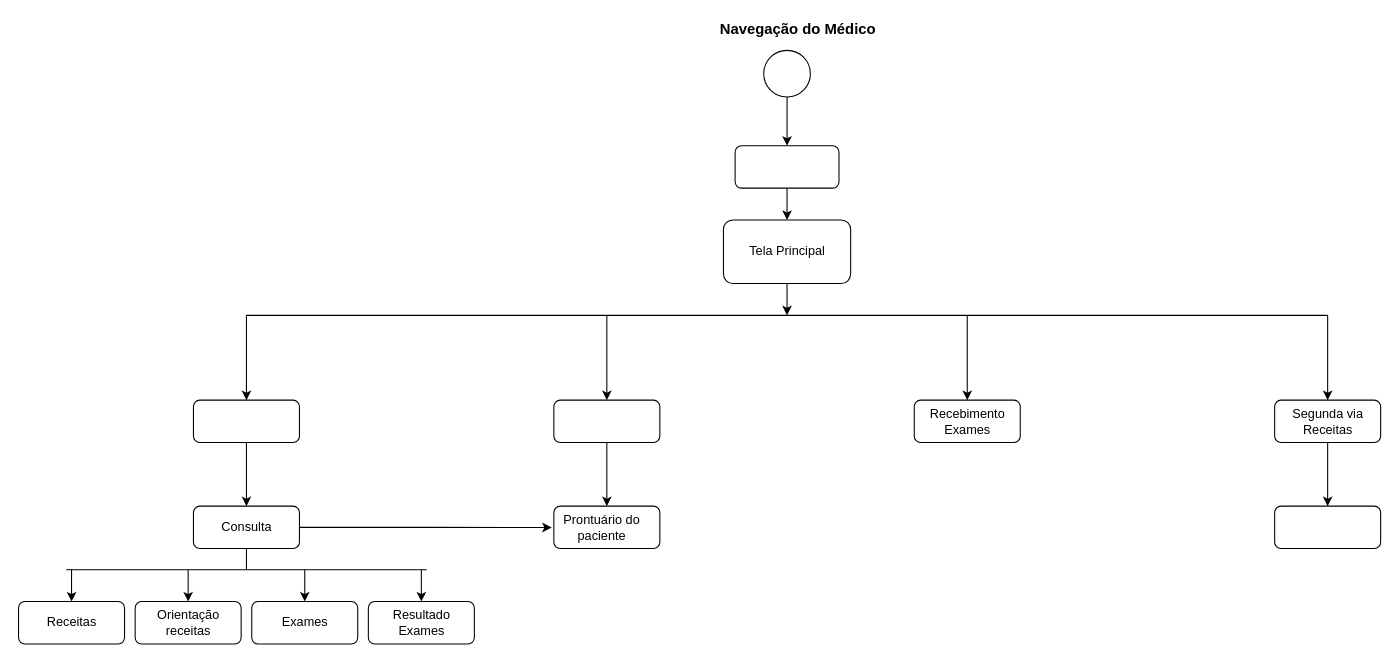
Image size: 1399x662. Some labels were removed from this diagram. Here are the shapes that lost their labels. From the top down, the box of each, then its label:
(734, 145, 839, 188): login
(192, 399, 299, 443): Consultas do dia
(553, 399, 660, 443): Histórico de pacientes
(1274, 505, 1381, 549): Impressão
